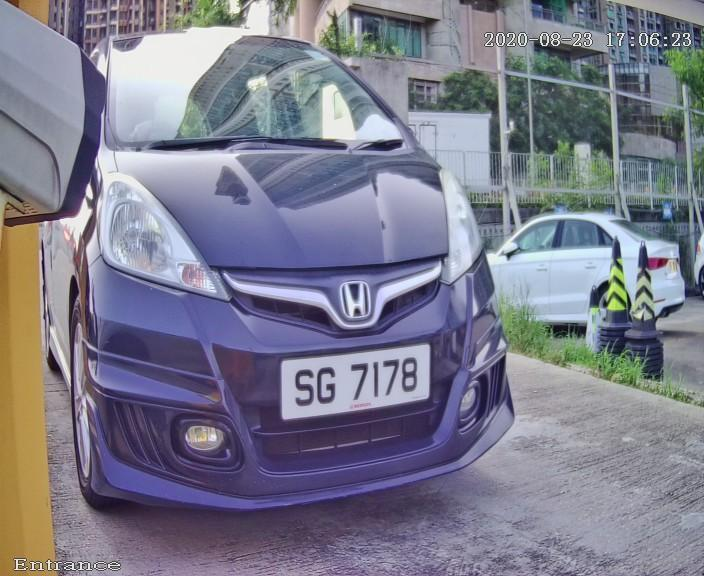Car: (32, 6, 538, 564)
License Plate: (251, 314, 468, 444)
